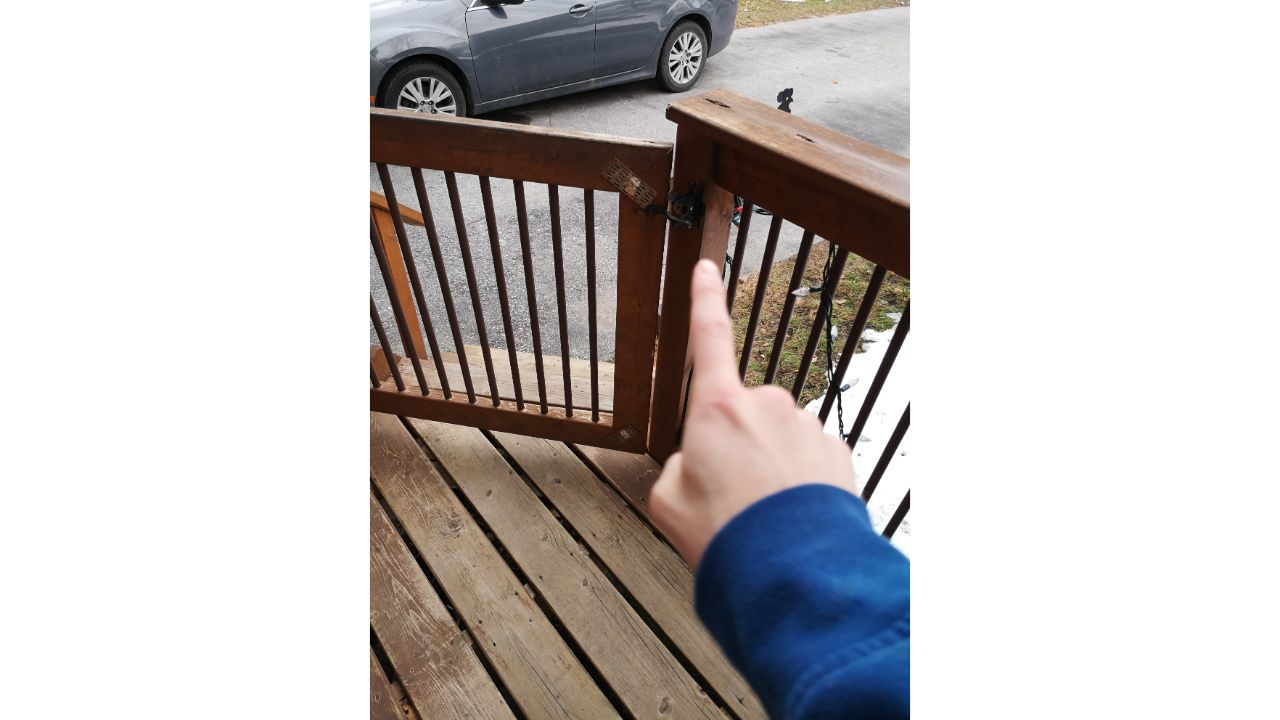finger: (649, 248, 885, 585)
